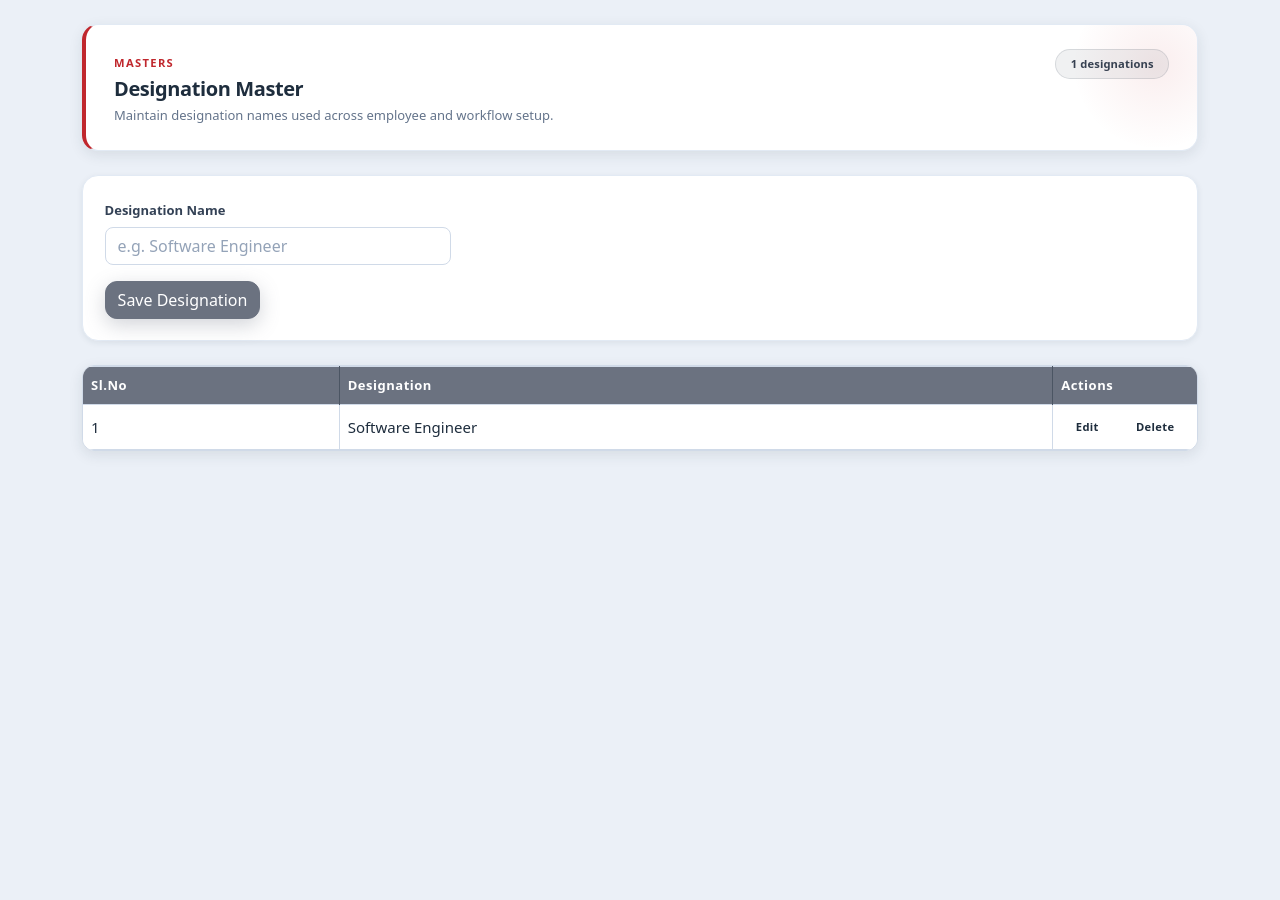
Test: delete designation › clicking Delete opens the ConfirmDialog
The image size is (1280, 900).
Expected: the text "Software Engineer" is shown, [339,405,1053,450]
Click the button "Delete" at [1155, 427], box [1121,413,1189,442]
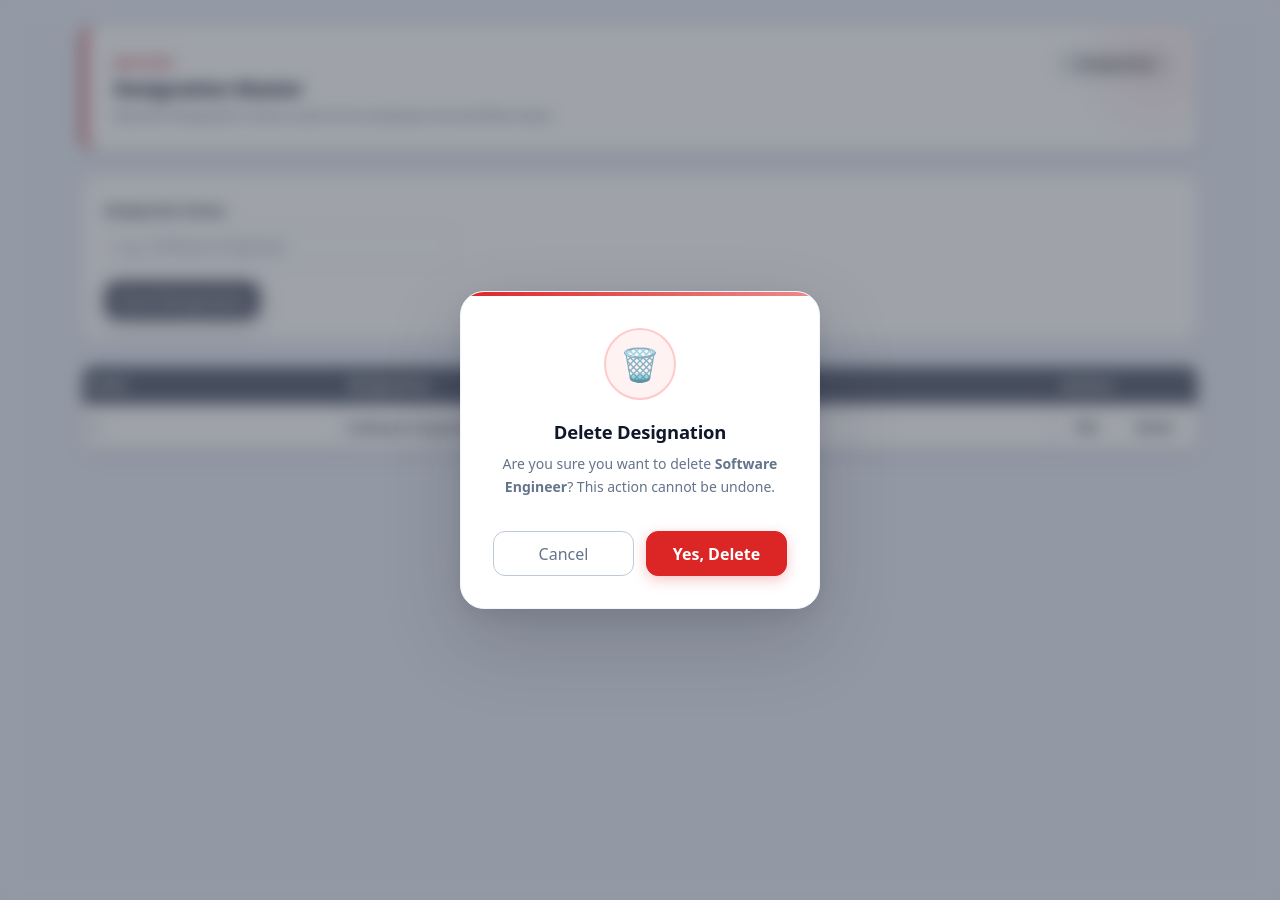
Result: the dialog is shown at [460,291,820,609]
Result: the heading "Delete Designation" is shown at [554,420,726,444]
